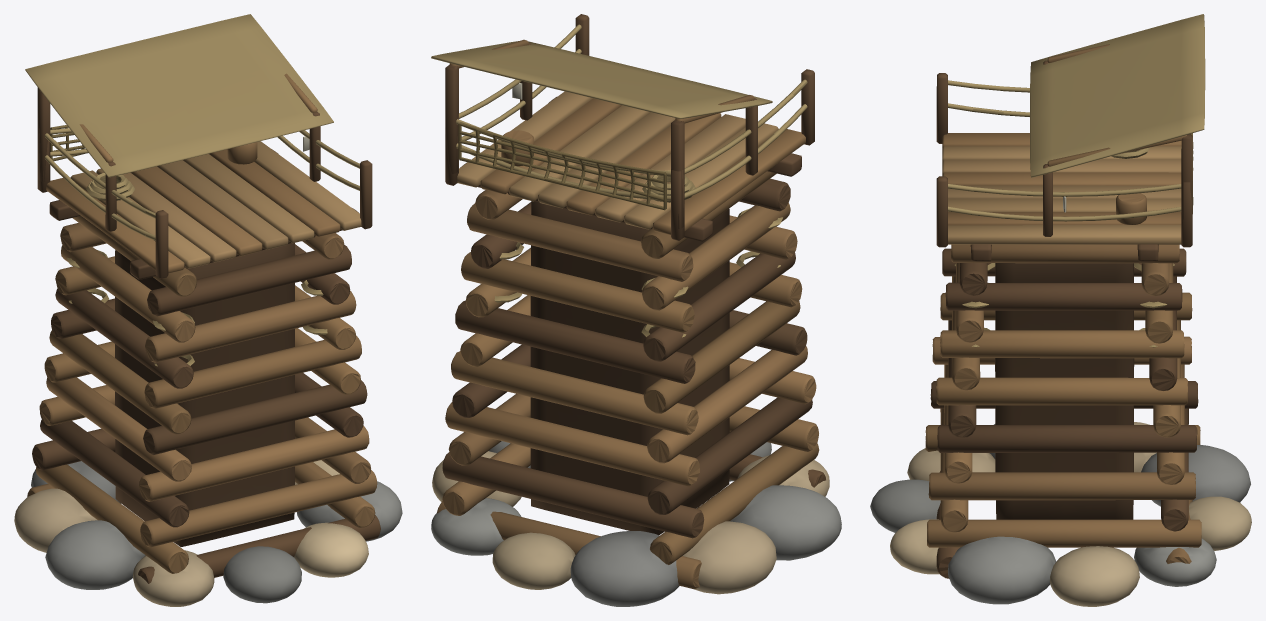
Rendered from lookout_deck_a.glb.
3 views of the same model, side by side, from view 1: azimuth 30°, elevation 25°; view 2: azimuth 150°, elevation 25°; view 3: azimuth 270°, elevation 25° (orthographic). The views are drawn at different scales.
Parts seen in each view (by area): view 1: Surface; view 2: Surface; view 3: Surface.
Boxes of the visible parts, box(x1,y1,x2,y2) form: Surface: box(14, 14, 402, 606); Surface: box(431, 14, 841, 606); Surface: box(870, 14, 1251, 606).
Size of the model in its own units: 7.12 by 9.31 by 6.87.
